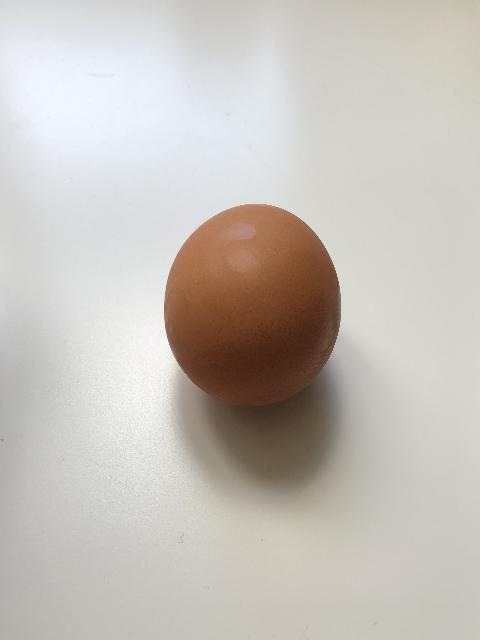Sano: (163, 202, 342, 408)
